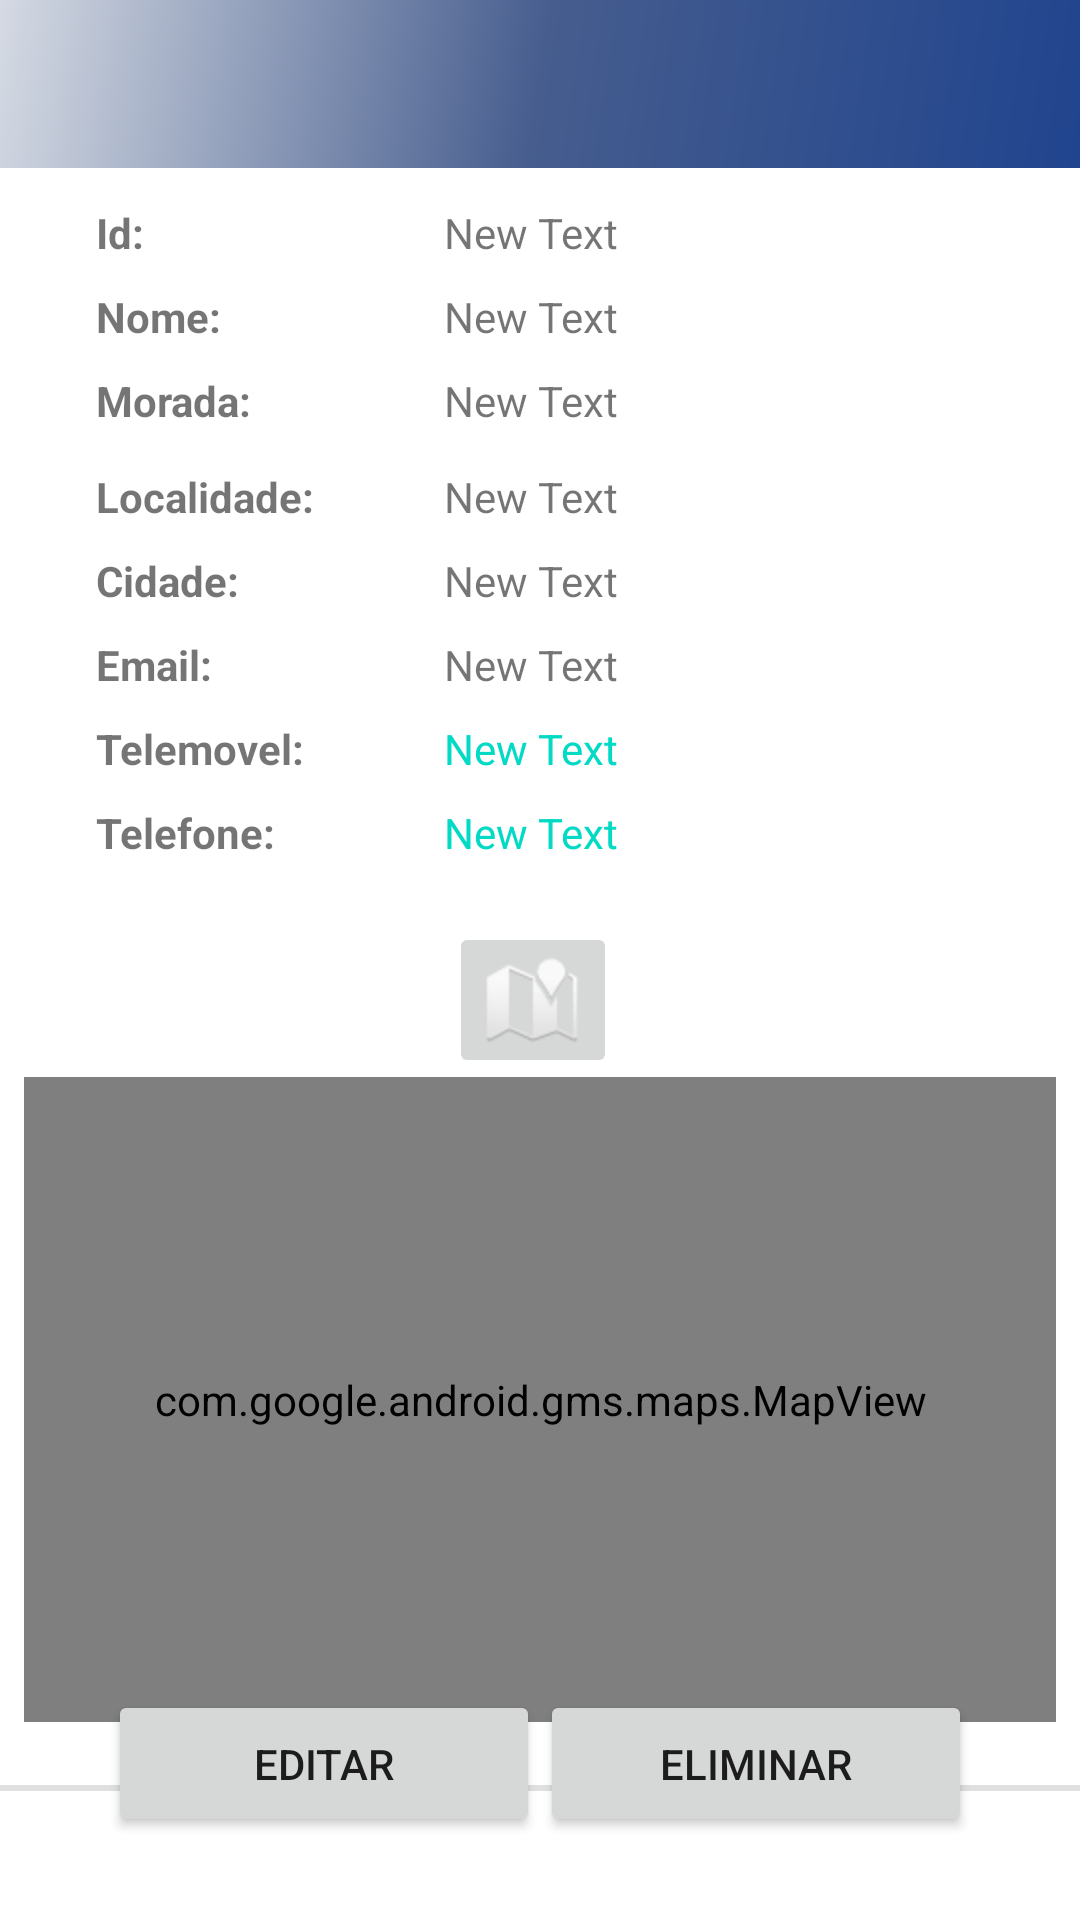

Icons on this 1080px×1920px Android screen, each with its box as bbox=(x1, y1, x2, y2):
map: bbox=(461, 940, 605, 1060)
